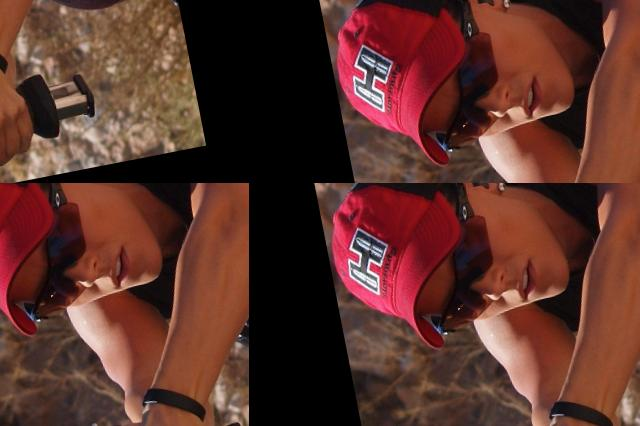handgun: (0, 271, 235, 426), (424, 22, 640, 183), (0, 52, 26, 118)
